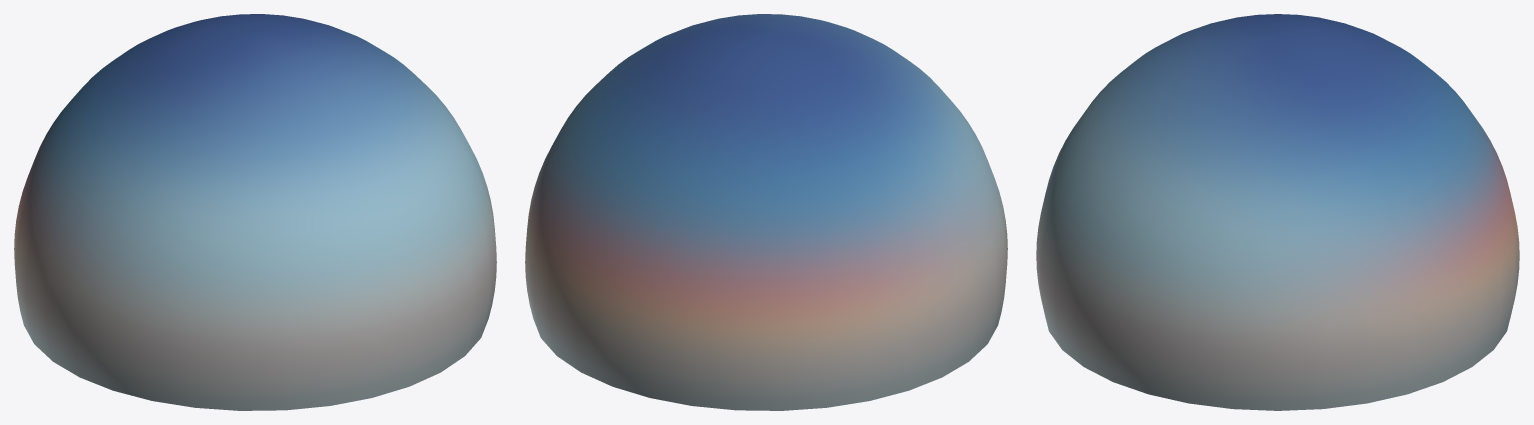
File: VRT-Sky.fbx
3 renders of one model, left to right at view 1: azimuth 30°, elevation 25°; view 2: azimuth 150°, elevation 25°; view 3: azimuth 270°, elevation 25°, orthographic.
Visible parts, largest first — view 1: Sky_ArmModelsDemo_GEO; view 2: Sky_ArmModelsDemo_GEO; view 3: Sky_ArmModelsDemo_GEO.
Part boxes in pixels (x1=…): Sky_ArmModelsDemo_GEO: x1=14, y1=14, x2=496, y2=410; Sky_ArmModelsDemo_GEO: x1=525, y1=14, x2=1007, y2=410; Sky_ArmModelsDemo_GEO: x1=1036, y1=14, x2=1519, y2=410.
Bounding box in the file's own units: 600 × 378 × 600.
